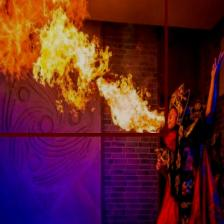fire: (0, 0, 167, 135)
